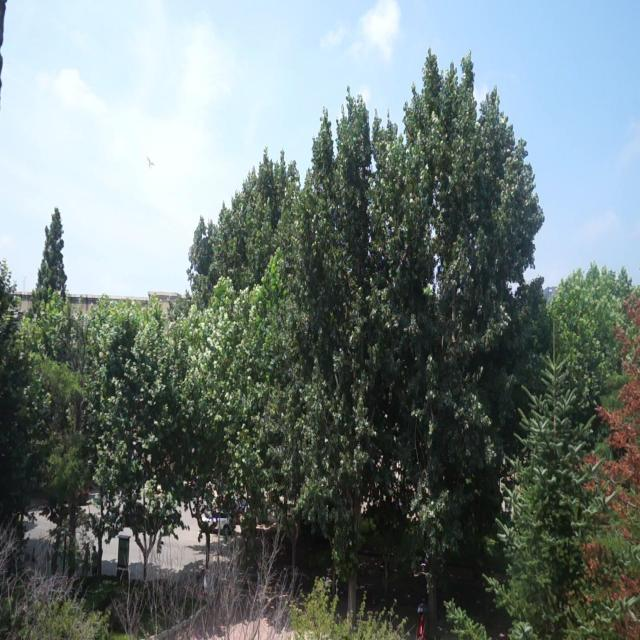UAV: (146, 156, 154, 166)
